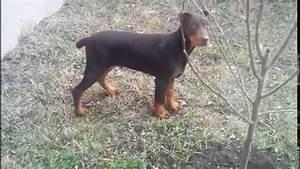dog: (70, 11, 209, 119)
